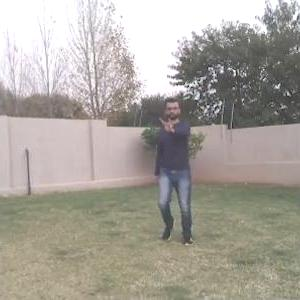takeoff-hand: (158, 114, 181, 142)
